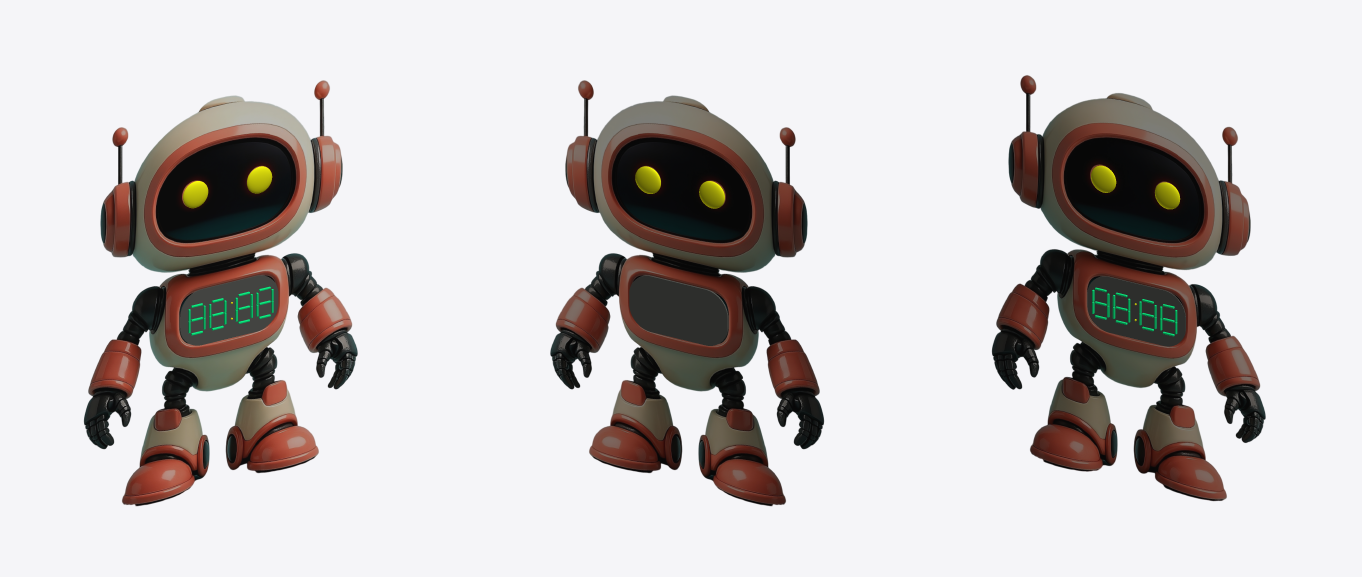
File: 可愛的3D機器人風格數位時鐘V1.glb
The picture shows the model from 3 angles, left to right: view 1: azimuth 30°, elevation 25°; view 2: azimuth 150°, elevation 25°; view 3: azimuth 330°, elevation 25°; orthographic projection.
Parts seen in each view (by area): view 1: 平面, 挤压, eye, eye.1; view 2: 平面, 挤压, eye, eye.1; view 3: 平面, 挤压, eye, eye.1.
Boxes of the visible parts, x1,y1,x2,y2 form: 平面: [84, 80, 357, 506]; 挤压: [179, 275, 278, 345]; eye: [247, 166, 272, 193]; eye.1: [183, 181, 208, 208]; 平面: [550, 80, 823, 506]; 挤压: [629, 275, 728, 345]; eye: [635, 166, 660, 193]; eye.1: [699, 181, 724, 208]; 平面: [992, 75, 1265, 500]; 挤压: [1087, 276, 1185, 346]; eye: [1155, 182, 1180, 209]; eye.1: [1091, 165, 1116, 192].
Size of the model in its own units: 400 by 400 by 8.14.
Materials: 4 (1 with a texture image).
